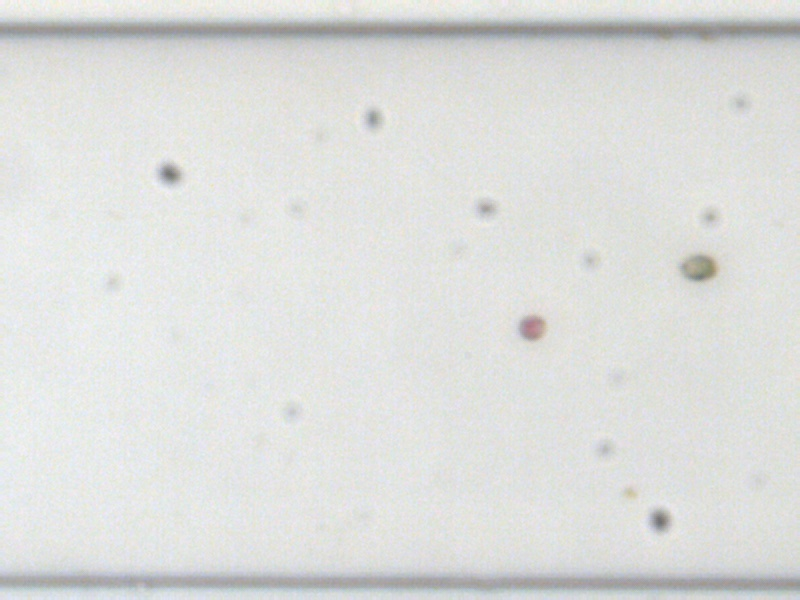Chlorella: (621, 484, 638, 499)
Dunaliella salina: (677, 252, 717, 281)
Porphyridium: (515, 311, 549, 341)
